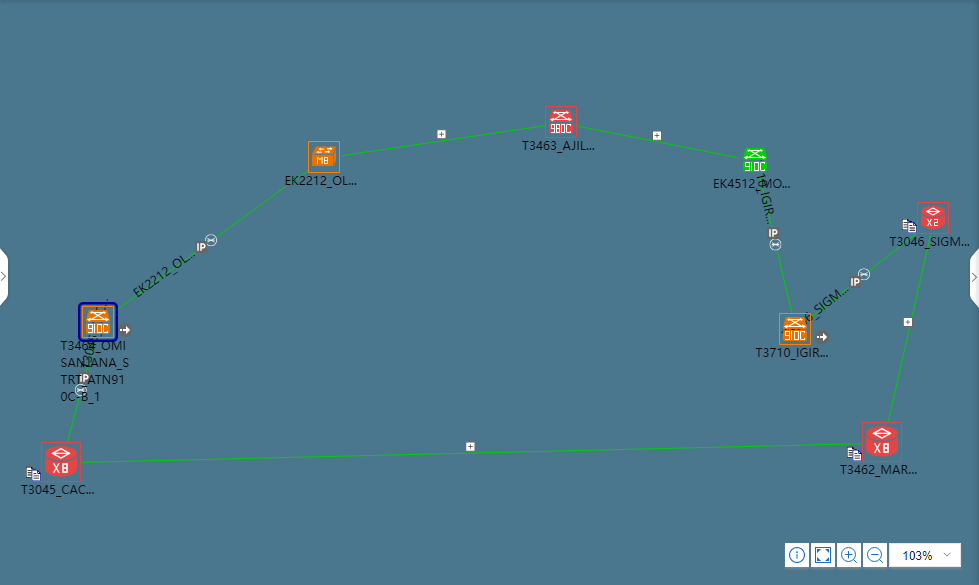ATN_Orange: (780, 314, 808, 341), (83, 308, 110, 335)
ATN_Red: (548, 106, 577, 135)
Link_Green: (119, 173, 300, 312), (162, 436, 864, 462), (884, 234, 930, 423), (811, 234, 912, 315), (340, 124, 537, 158), (756, 179, 797, 312), (578, 124, 739, 156), (64, 345, 99, 439)
Router_Red: (40, 442, 81, 484), (866, 424, 899, 459), (921, 204, 950, 231)
